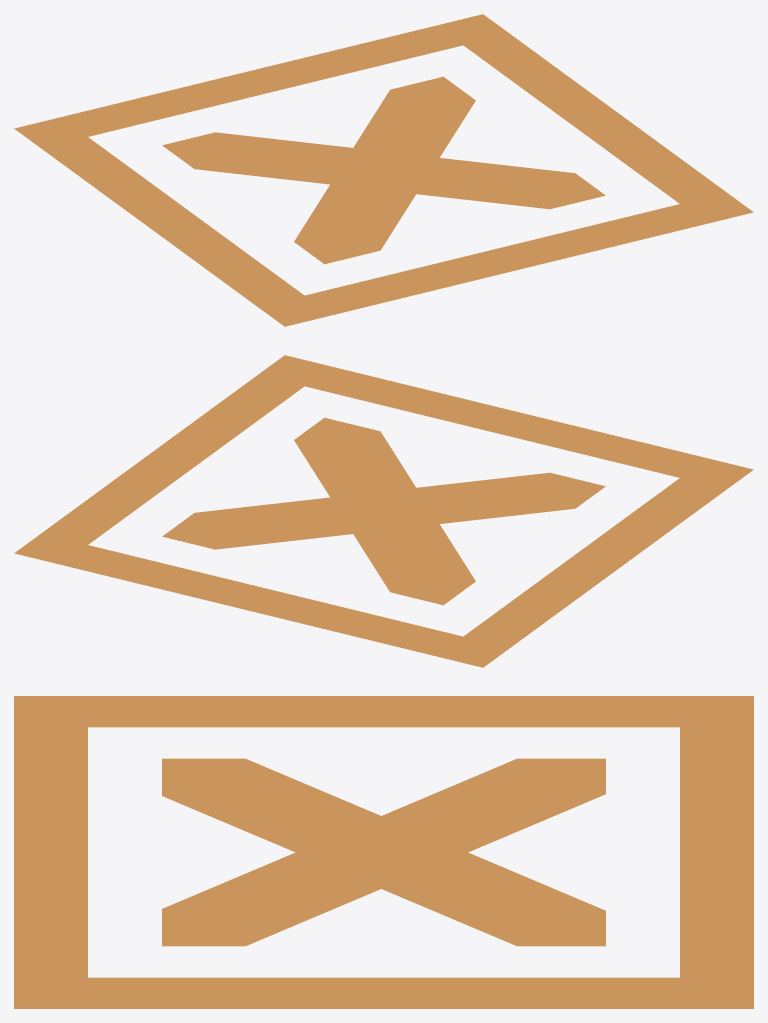
File: kenney-factory-indicator-special-cross.glb
The picture shows the model from 3 angles, top to bottom: view 1: azimuth 30°, elevation 25°; view 2: azimuth 150°, elevation 25°; view 3: azimuth 270°, elevation 25°; orthographic projection. The views are drawn at different scales.
Parts seen in each view (by area): view 1: indicator-special-cross; view 2: indicator-special-cross; view 3: indicator-special-cross.
Boxes of the visible parts, x1,y1,x2,y2 form: indicator-special-cross: (14,14,753,326); indicator-special-cross: (14,355,753,667); indicator-special-cross: (14,696,753,1008).
Bounding box in the file's own units: 1 × 0 × 1.
1 material, 1 textured.
